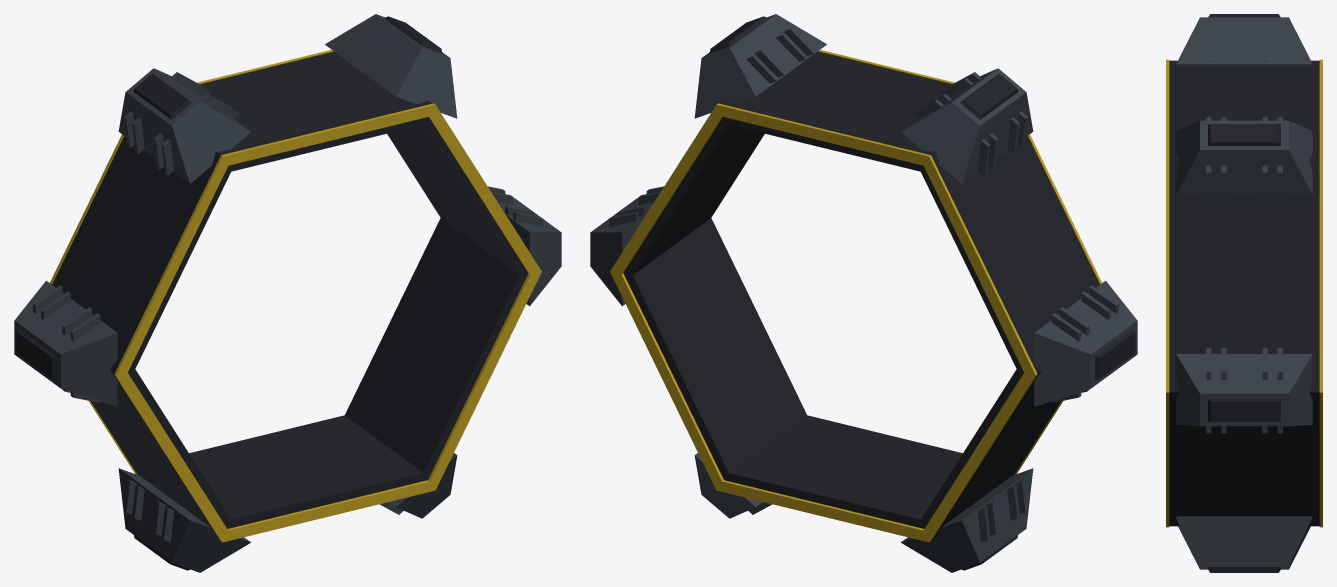
Rendered from b12_field.obj.
3 renders of one model, left to right at view 1: azimuth 30°, elevation 25°; view 2: azimuth 150°, elevation 25°; view 3: azimuth 270°, elevation 25°, orthographic. The views are drawn at different scales.
Visible parts, largest first — view 1: b12_field; view 2: b12_field; view 3: b12_field.
Boxes of the visible parts, x1=… form: b12_field: x1=14, y1=14, x2=561, y2=572; b12_field: x1=590, y1=14, x2=1137, y2=572; b12_field: x1=1166, y1=14, x2=1322, y2=572.
Size of the model in its own units: 3.28 by 2.91 by 0.92.
